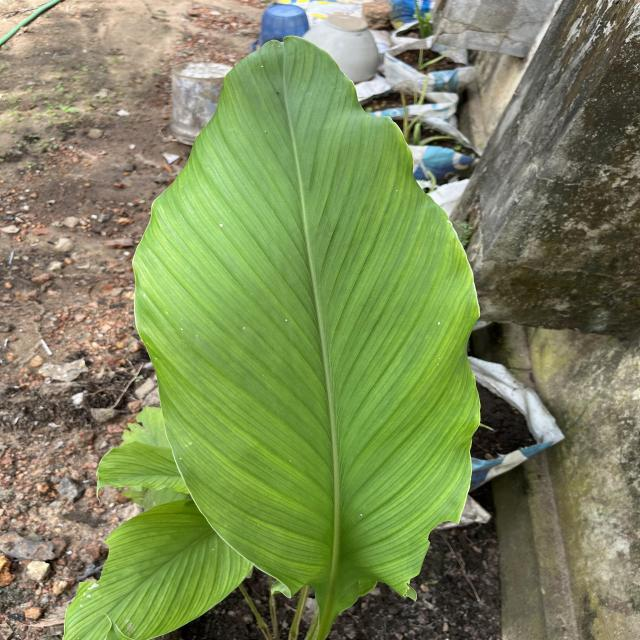Curcuma longa: (130, 34, 483, 606)
